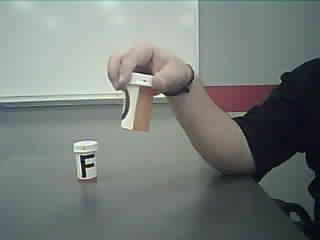Bottle D: (117, 69, 157, 137)
Bottle F: (72, 138, 100, 188)
